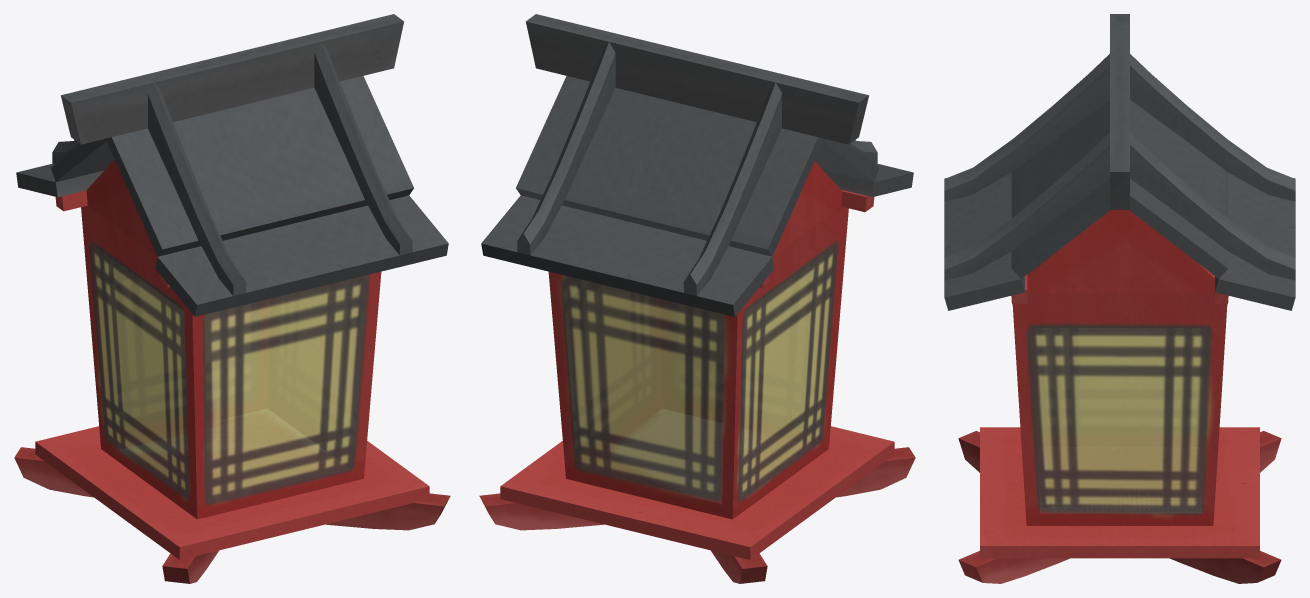
The model's file is floating_lantern.fbx.
3 renders of one model, left to right at view 1: azimuth 30°, elevation 25°; view 2: azimuth 150°, elevation 25°; view 3: azimuth 270°, elevation 25°, orthographic. The views are drawn at different scales.
Parts seen in each view (by area): view 1: polySurface3; view 2: polySurface3; view 3: polySurface3.
Boxes of the visible parts, bbox=[...] form: polySurface3: bbox=[14, 14, 450, 583]; polySurface3: bbox=[479, 14, 915, 583]; polySurface3: bbox=[944, 14, 1295, 583].
Bounding box in the file's own units: 200 × 258 × 188.
